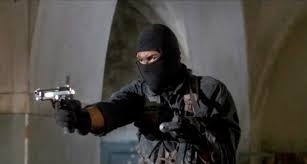pistol: (33, 85, 80, 111)
